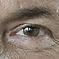eye: (23, 27, 39, 36)
